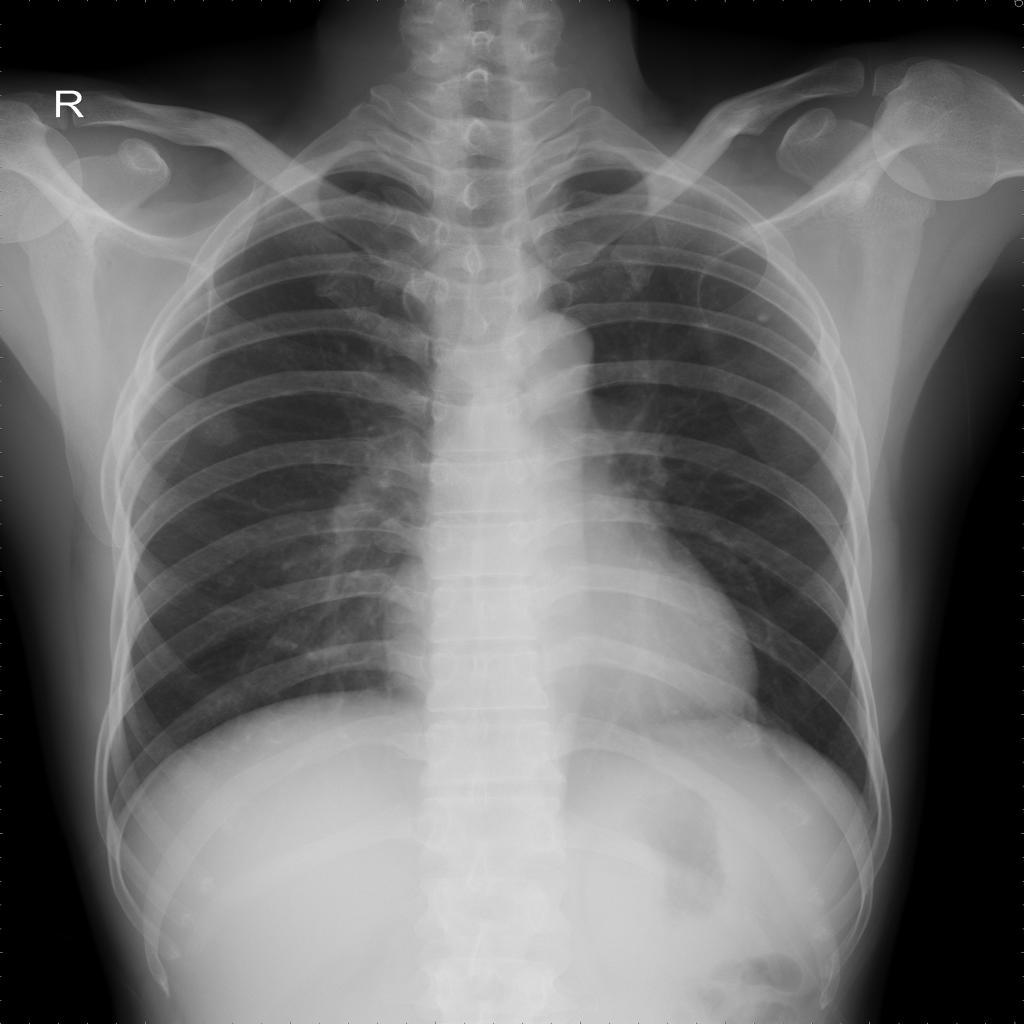Nodule: (193, 402, 243, 448), (733, 721, 763, 746), (215, 574, 237, 587), (755, 312, 771, 324)
